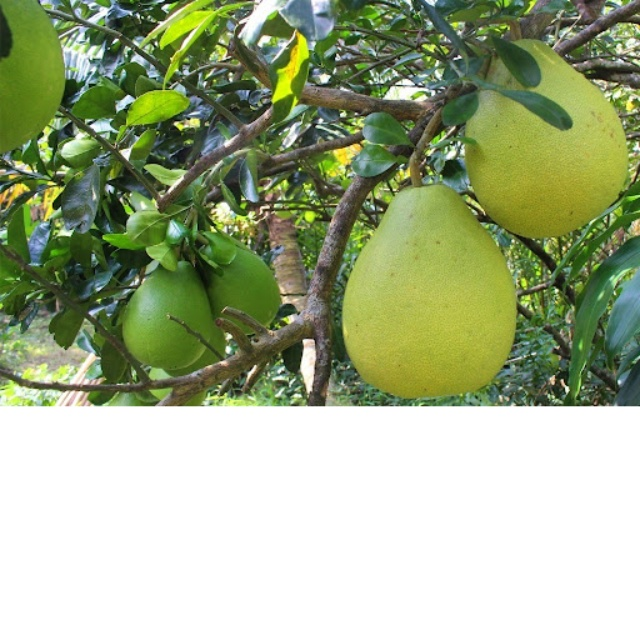buoi: (340, 181, 518, 400), (461, 37, 630, 239)
